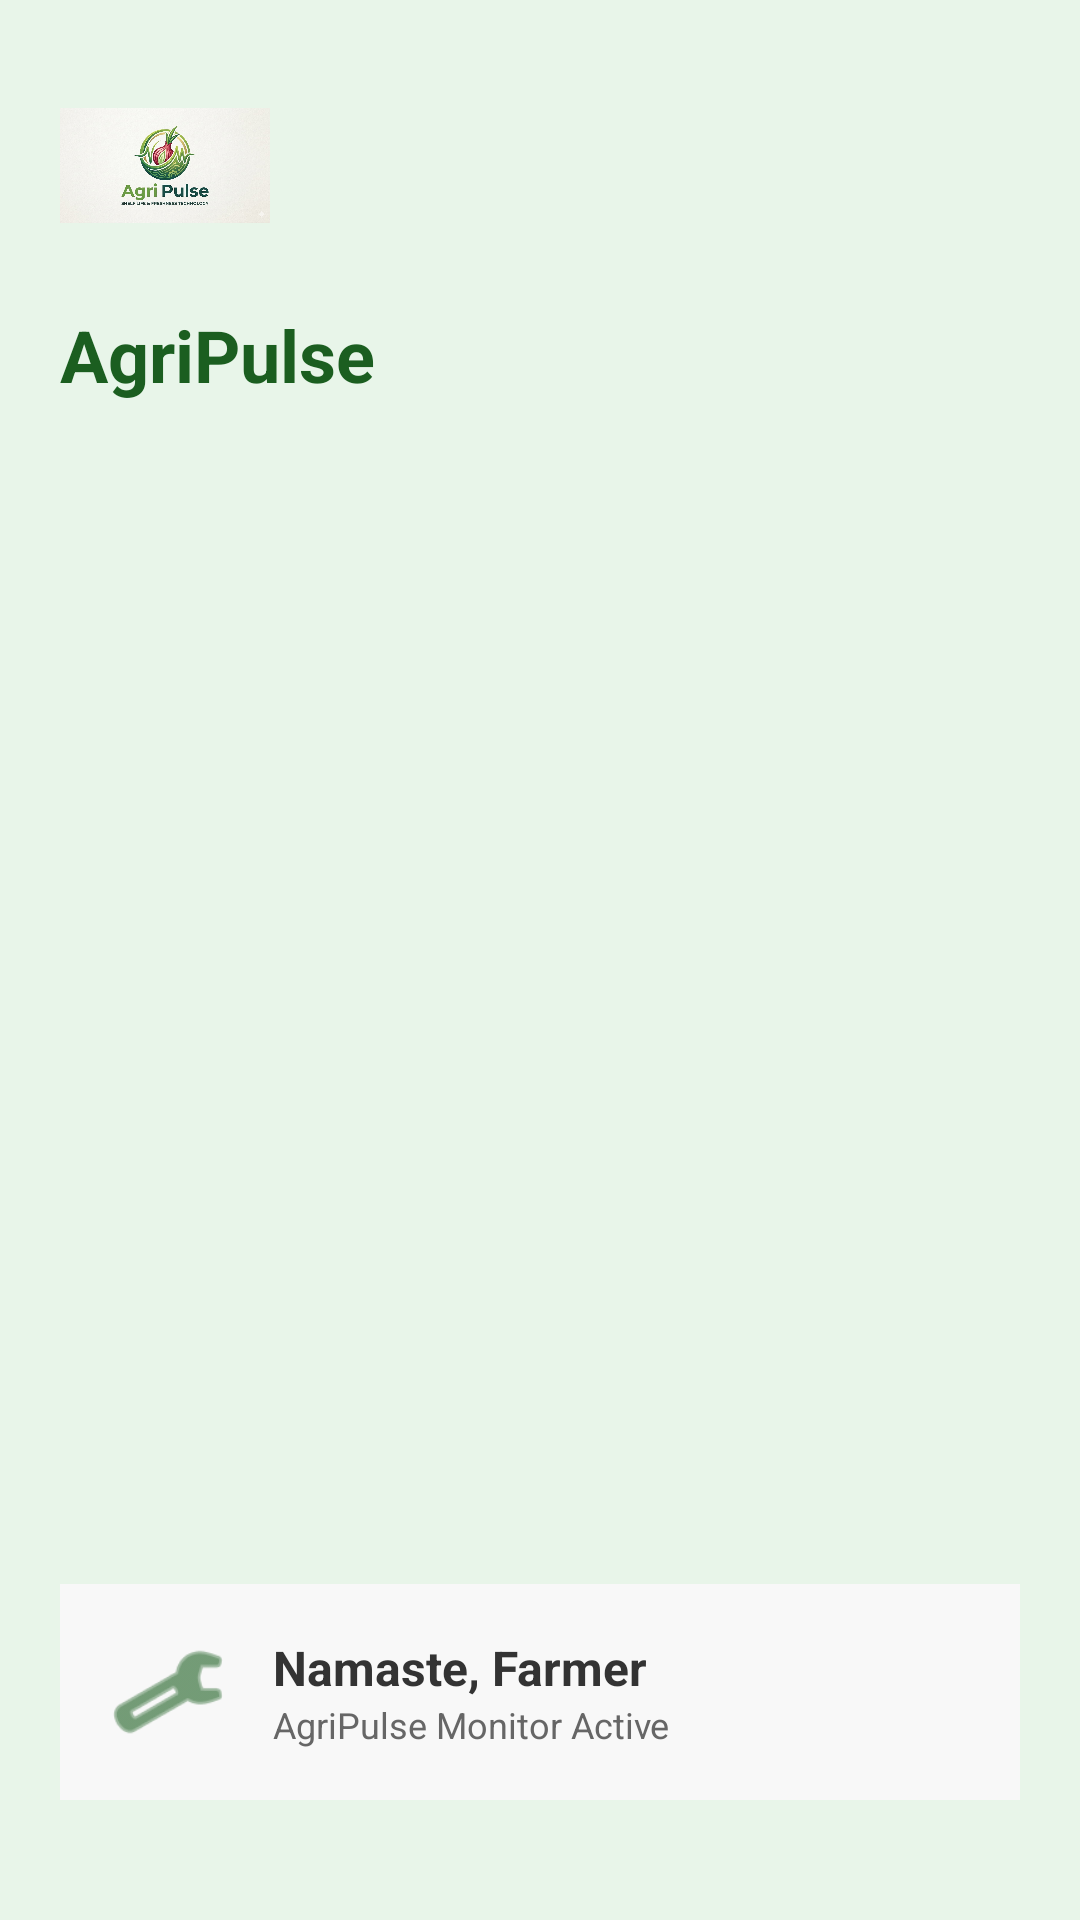

Icons on this 1080*1920 Android screen, each with its box as (x1, y1, x2, y2):
manage: (114, 1651, 222, 1733)
